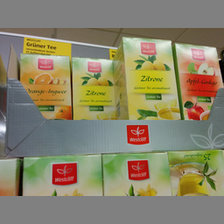tea: (113, 36, 182, 119), (174, 42, 222, 120), (19, 53, 73, 120), (103, 153, 172, 196), (72, 56, 116, 118)
